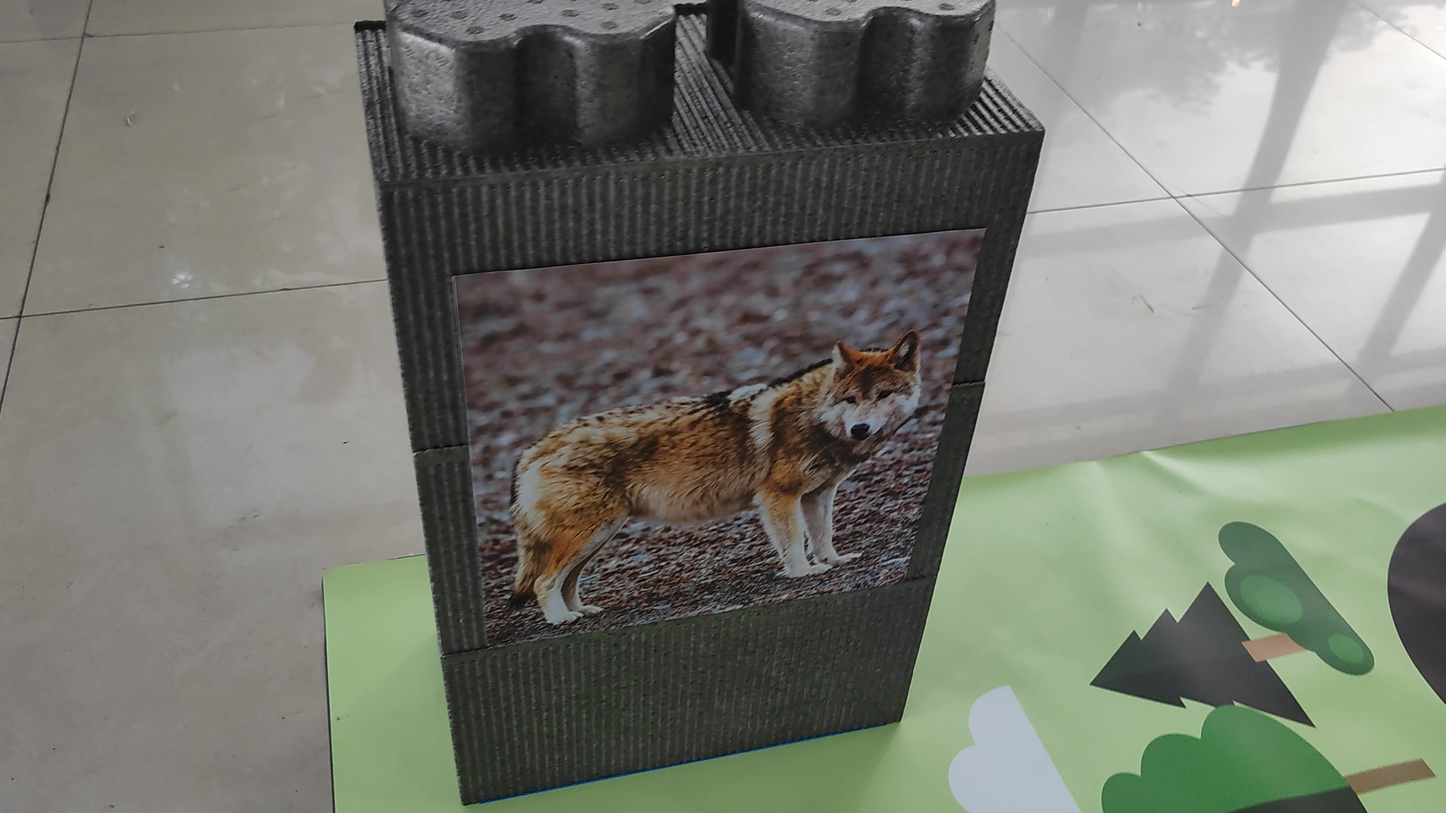wolf: (484, 310, 926, 630)
